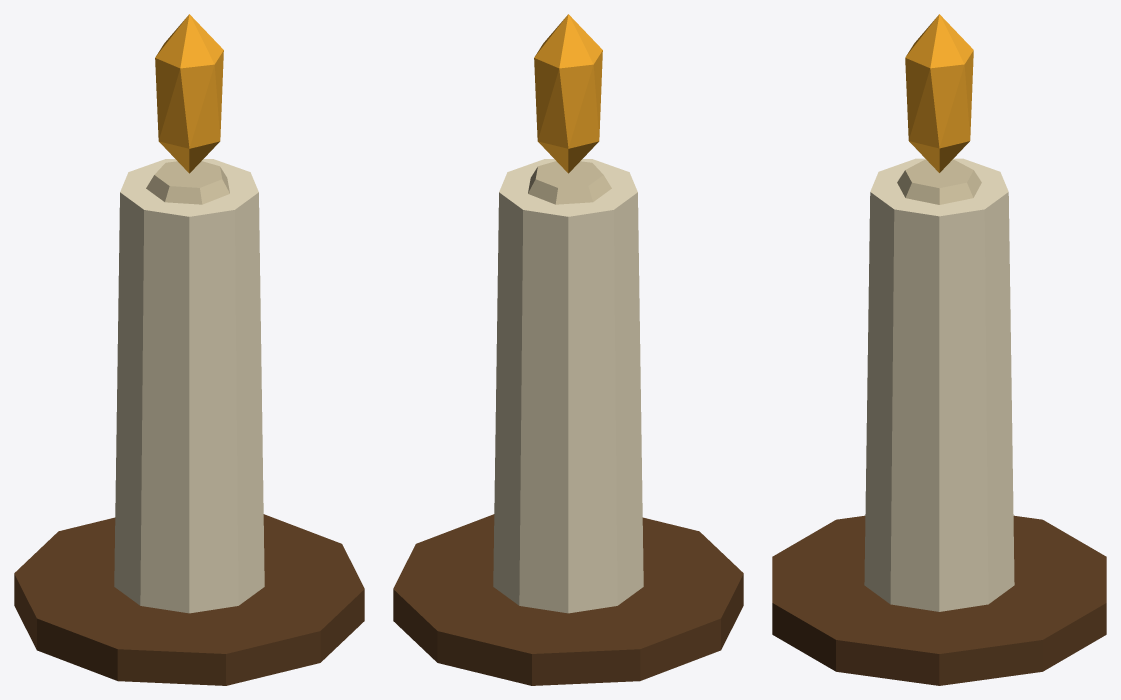
The model's file is drop_candle.glb.
The picture shows the model from 3 angles, left to right: view 1: azimuth 30°, elevation 25°; view 2: azimuth 150°, elevation 25°; view 3: azimuth 270°, elevation 25°; orthographic projection.
Visible parts, largest first — view 1: drop_candle; view 2: drop_candle; view 3: drop_candle.
Boxes of the visible parts, x1=… form: drop_candle: x1=14, y1=14, x2=364, y2=685; drop_candle: x1=393, y1=14, x2=743, y2=685; drop_candle: x1=772, y1=14, x2=1106, y2=685.
Bounding box in the file's own units: 0.12 × 0.225 × 0.1141.
